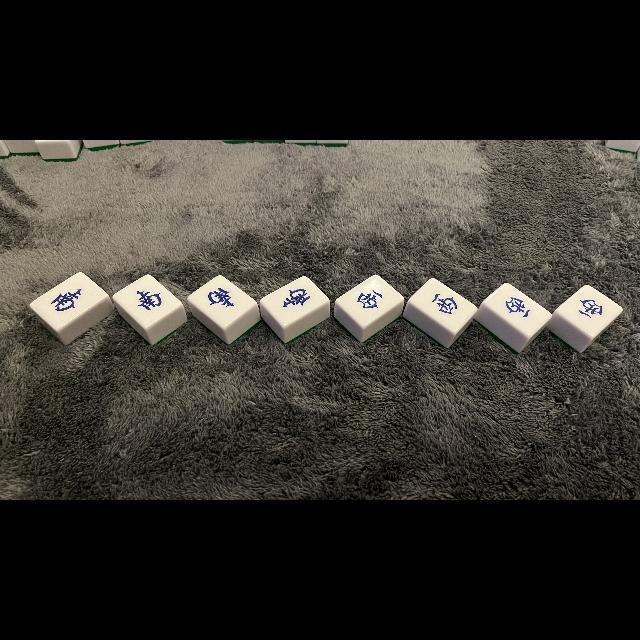ws: (126, 279, 170, 321), (45, 282, 91, 321), (200, 281, 244, 319), (274, 282, 320, 318)
ww: (420, 282, 472, 324), (492, 287, 544, 329), (570, 289, 614, 327), (349, 282, 391, 320)
